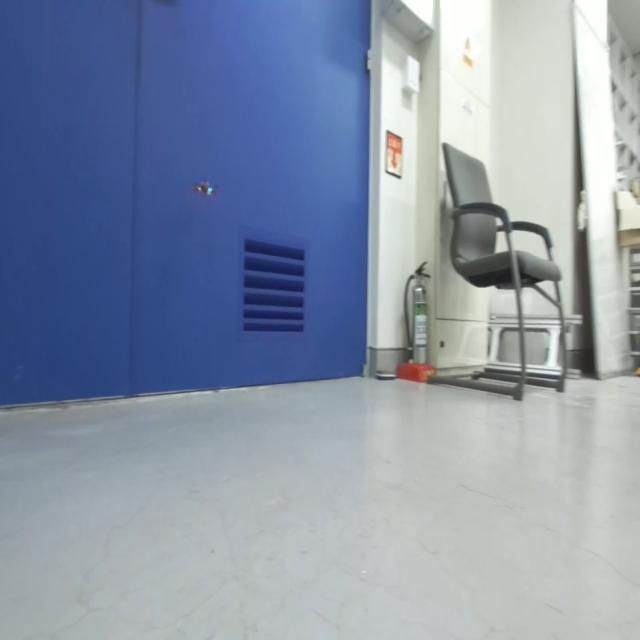crazyflie: (192, 175, 218, 204)
